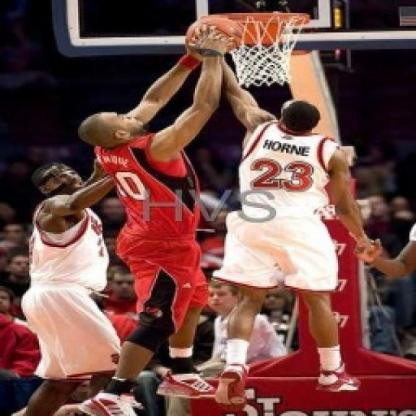basketball: (180, 12, 247, 63)
